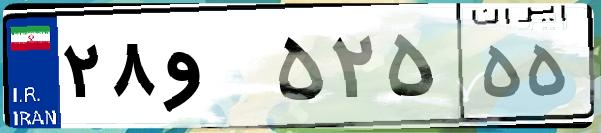2: (330, 28, 385, 110), (57, 26, 110, 100)
5: (270, 28, 330, 110), (385, 28, 445, 110), (475, 38, 525, 113), (525, 38, 570, 115)
8: (110, 28, 158, 98)
و: (158, 20, 270, 120)
